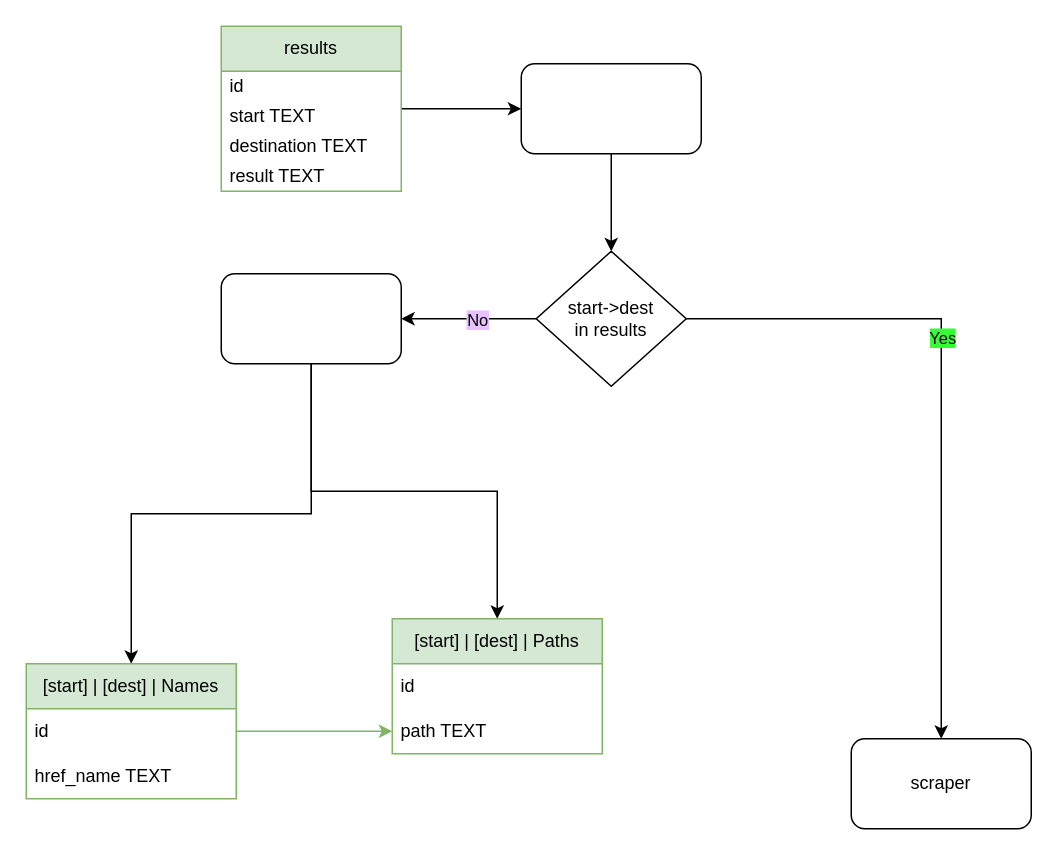
Some shapes in this 1058 by 855 pixel diagram are drawn without their labels. The shapes that lost their labels are listed below. From the top down, each one's centre as x and y in pixels, then its label:
(x=610, y=108): wikipedia_speedrun
(x=310, y=318): initializer
